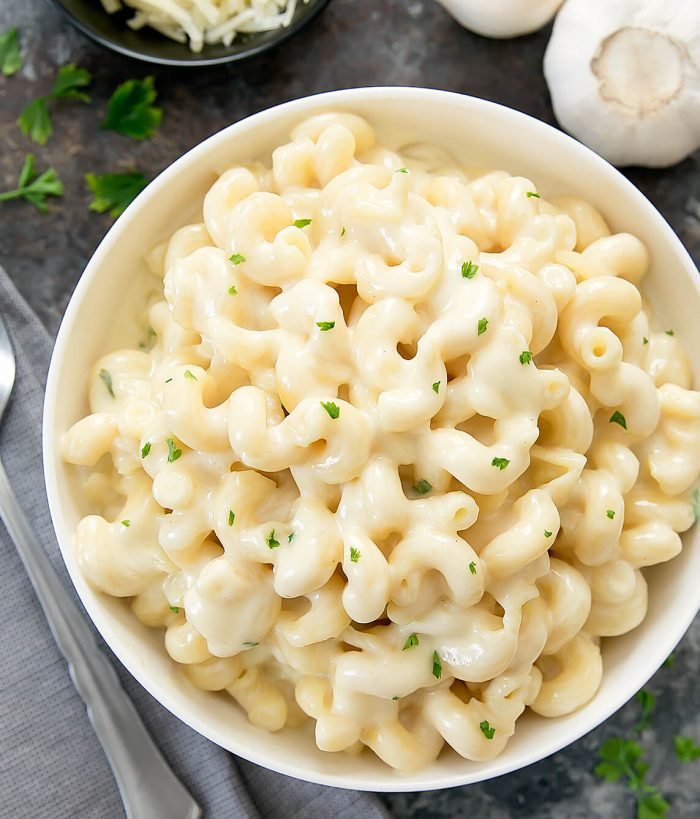macncheese: (132, 152, 566, 642)
